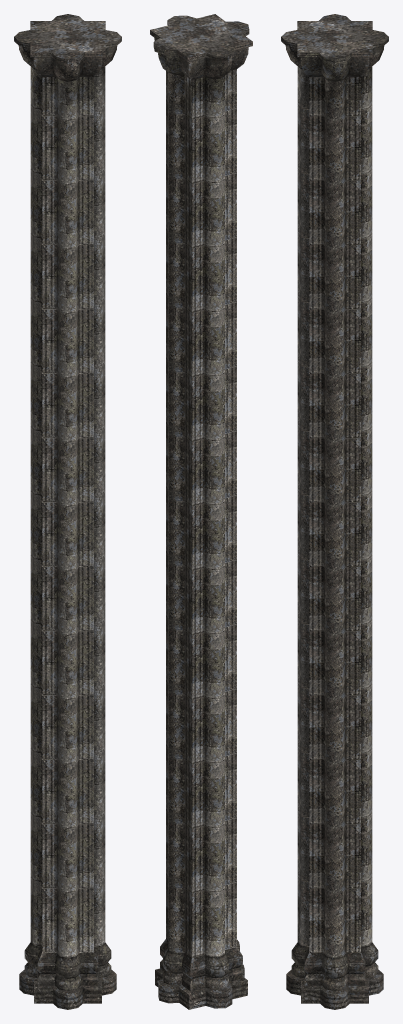
Rendered from column_b_003.fbx.
3 views of the same model, side by side, from view 1: azimuth 90°, elevation 25°; view 2: azimuth 210°, elevation 25°; view 3: azimuth 270°, elevation 25° (orthographic).
Parts seen in each view (by area): view 1: Cube.101; view 2: Cube.101; view 3: Cube.101.
Part boxes in pixels (box(x1,y1,x2,y2)): Cube.101: box(14, 14, 121, 1009); Cube.101: box(150, 14, 252, 1009); Cube.101: box(281, 14, 388, 1009).
Size of the model in its own units: 160 by 1556 by 160.
